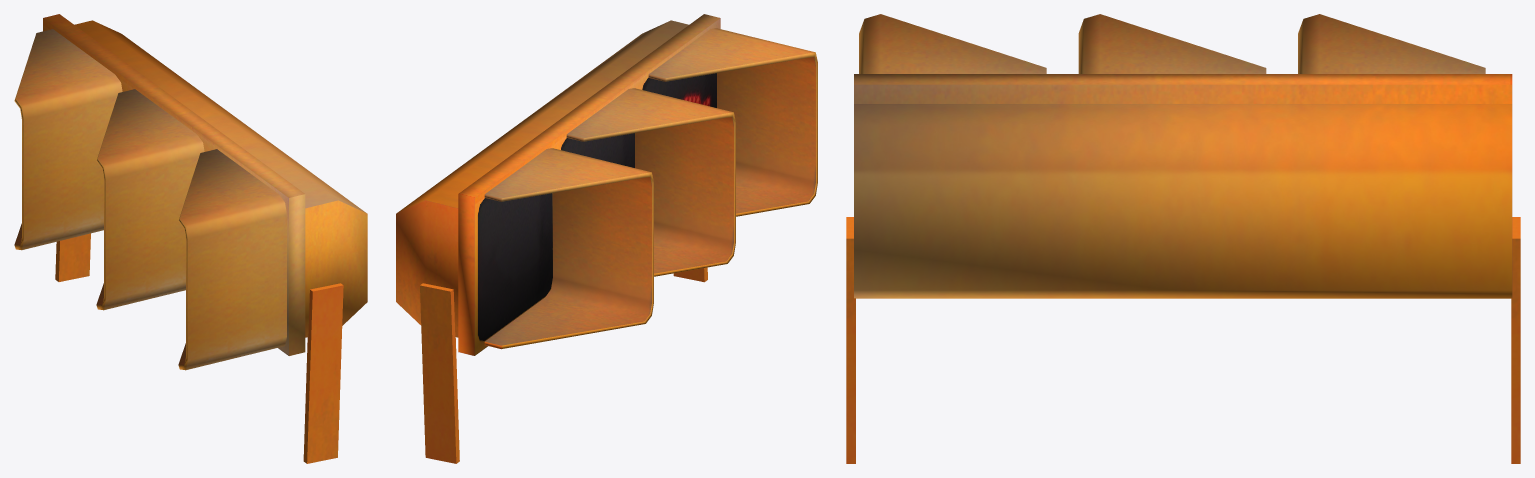
File: RTA0101220720_0432L_02_normalization.obj
3 renders of one model, left to right at view 1: azimuth 30°, elevation 25°; view 2: azimuth 150°, elevation 25°; view 3: azimuth 270°, elevation 25°, orthographic. The views are drawn at different scales.
Parts seen in each view (by area): view 1: RTA0101220720_0432S_02; view 2: RTA0101220720_0432S_02; view 3: RTA0101220720_0432S_02.
Boxes of the visible parts, x1,y1,x2,y2 form: RTA0101220720_0432S_02: (14,14,367,463); RTA0101220720_0432S_02: (396,14,817,463); RTA0101220720_0432S_02: (846,14,1520,463).
Bounding box in the file's own units: 0.3314 × 0.479 × 0.8129.
1 material, 1 textured.
